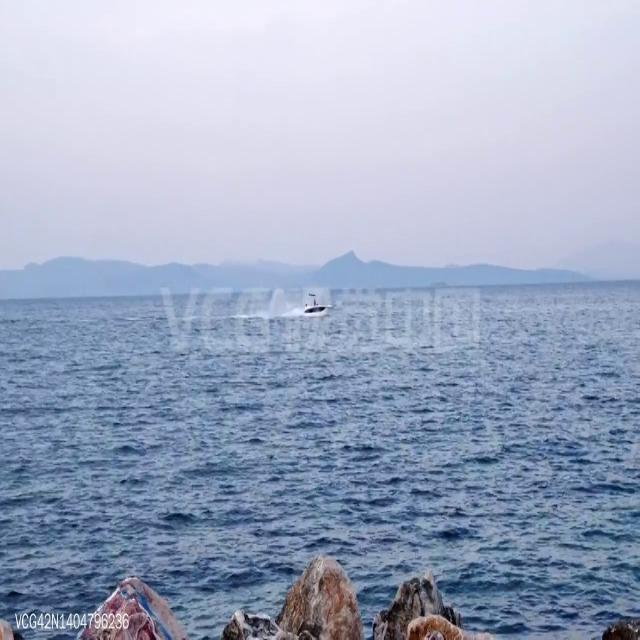houseboat: (302, 290, 332, 319)
